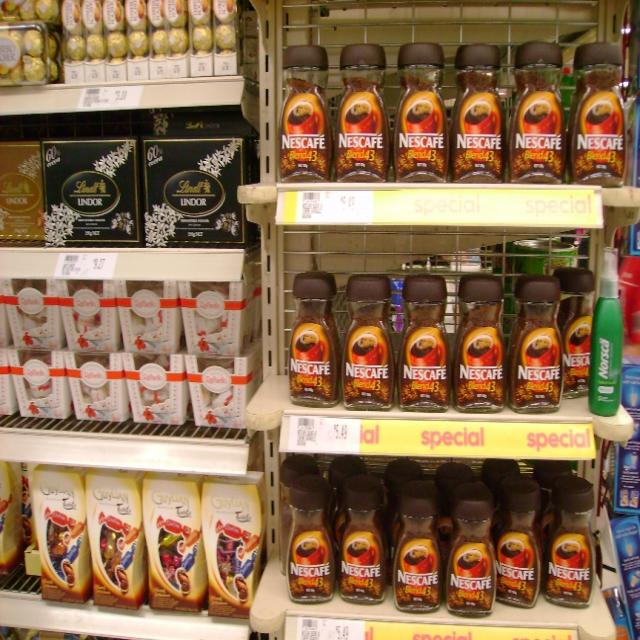q115: (39, 136, 146, 255), (150, 132, 249, 258)
q13: (272, 28, 338, 184), (443, 265, 516, 401), (390, 26, 454, 178), (507, 38, 574, 180), (446, 31, 512, 171), (565, 45, 635, 172), (394, 255, 457, 392), (539, 470, 602, 594), (510, 261, 570, 390), (494, 468, 552, 599), (444, 476, 500, 610), (340, 265, 396, 398), (335, 24, 384, 171), (333, 482, 392, 602), (396, 476, 446, 616), (285, 267, 336, 391), (285, 482, 334, 608), (568, 243, 595, 385)
